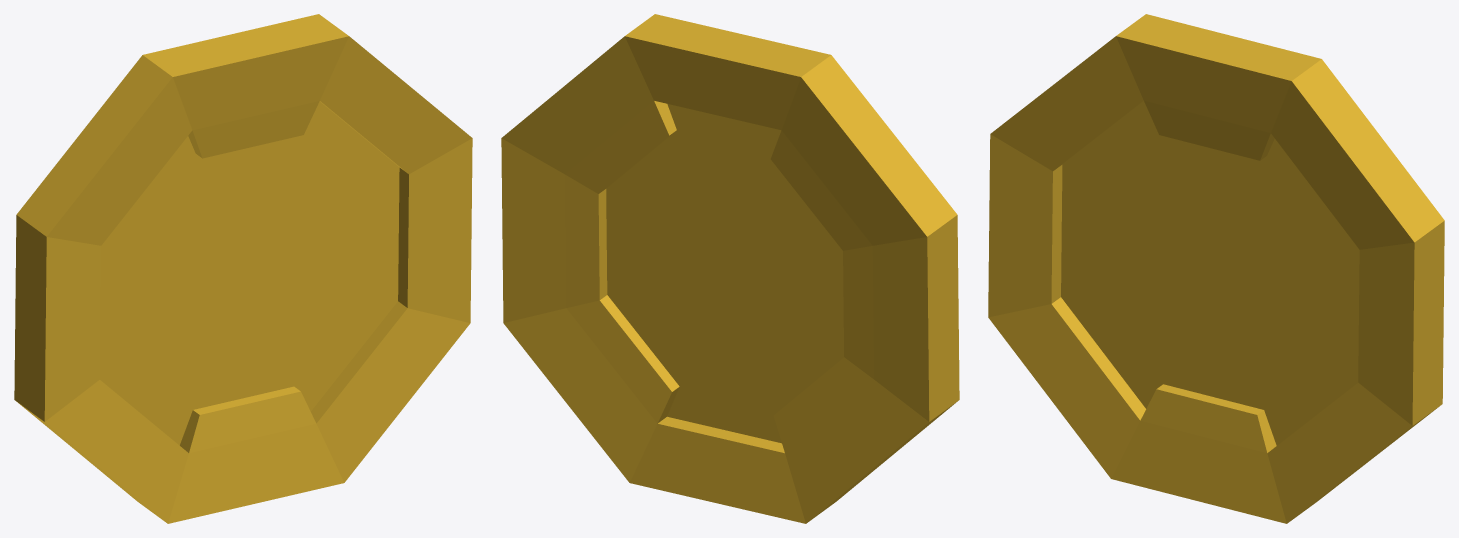
File: Coin.glb
3 views of the same model, side by side, from view 1: azimuth 30°, elevation 25°; view 2: azimuth 150°, elevation 25°; view 3: azimuth 330°, elevation 25° (orthographic).
Parts seen in each view (by area): view 1: Cylinder; view 2: Cylinder; view 3: Cylinder.
Boxes of the visible parts, left/top/right/bottom form: Cylinder: left=14, top=14, right=472, bottom=523; Cylinder: left=501, top=14, right=959, bottom=523; Cylinder: left=988, top=14, right=1444, bottom=523.
Bounding box in the file's own units: 1.86 × 1.86 × 0.2277.
